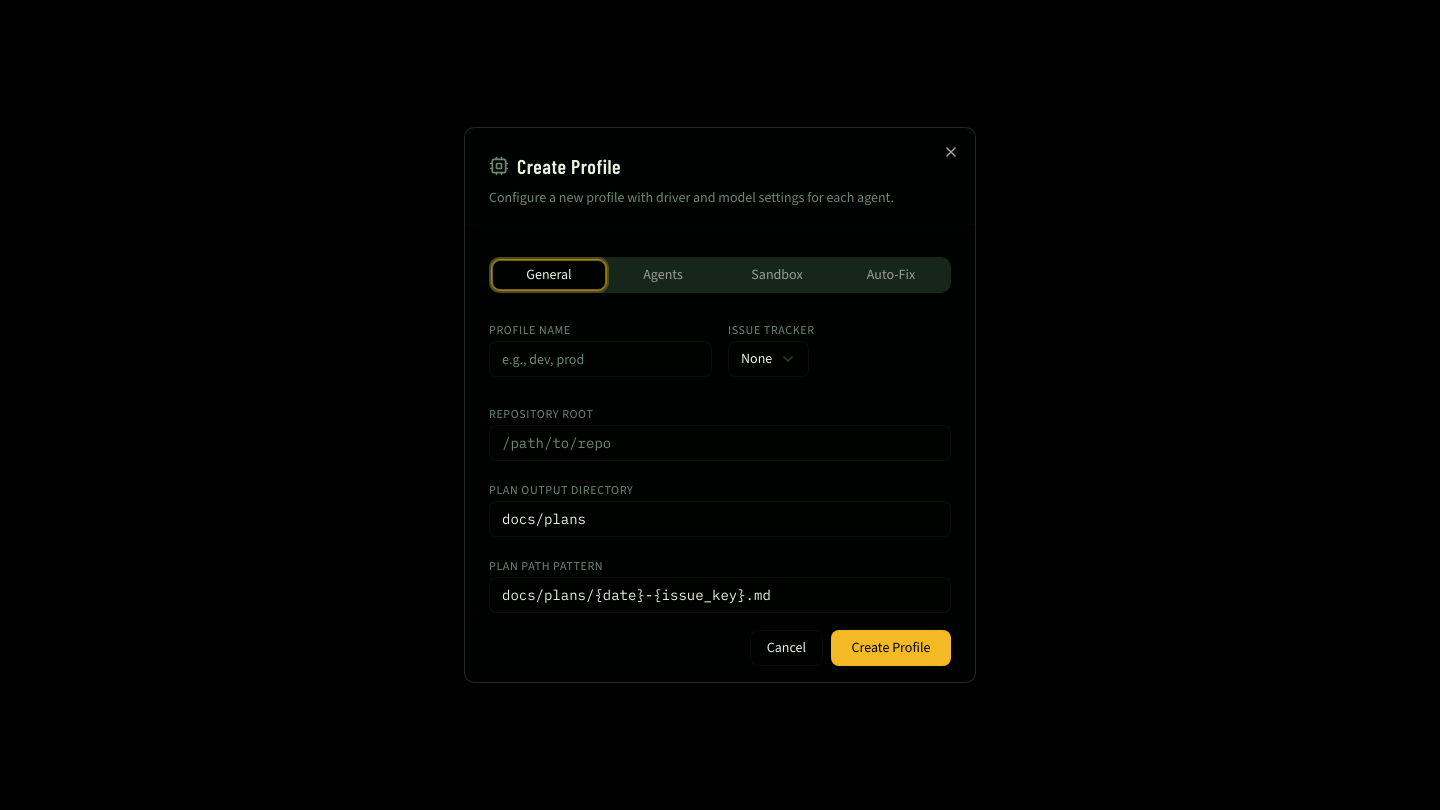
ProfileEditModal save flow › should show inline error when a relative path is entered and field is blurred
In the field labelled "Repository Root": (720, 443) [489, 425, 951, 461], type "my-repo"
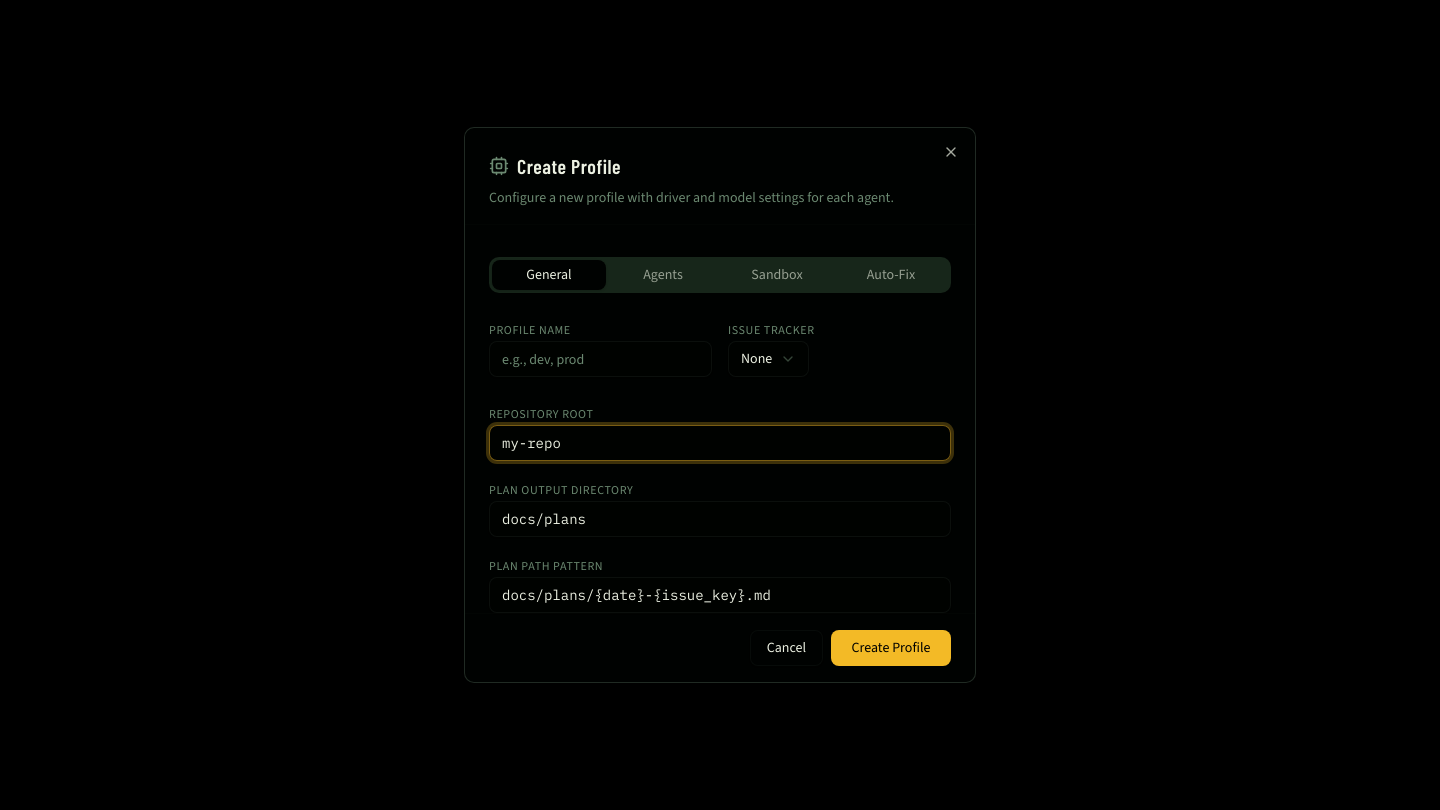
Press Tab
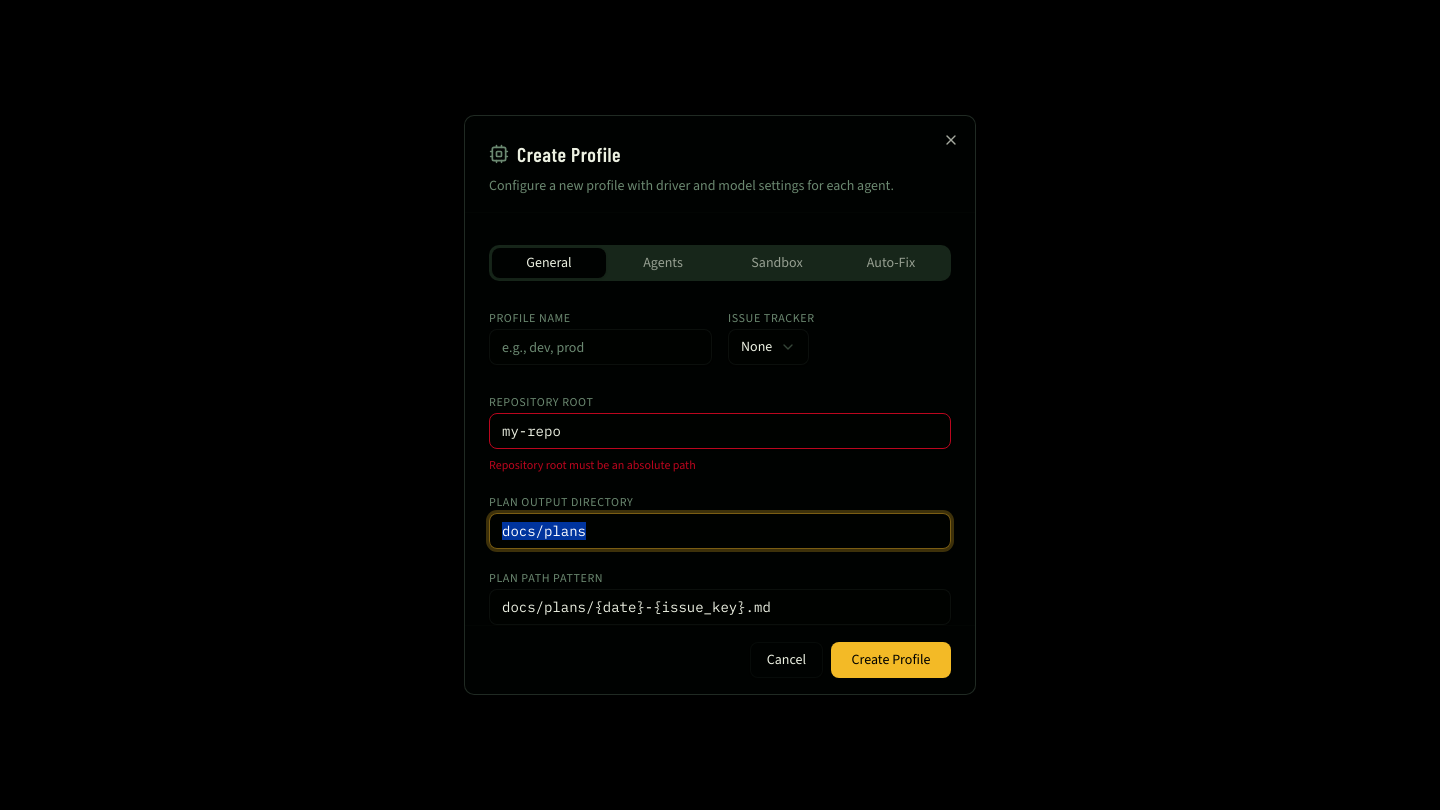
Check: the text "Repository root must be an absolute path" is shown, box [489, 457, 696, 473]
